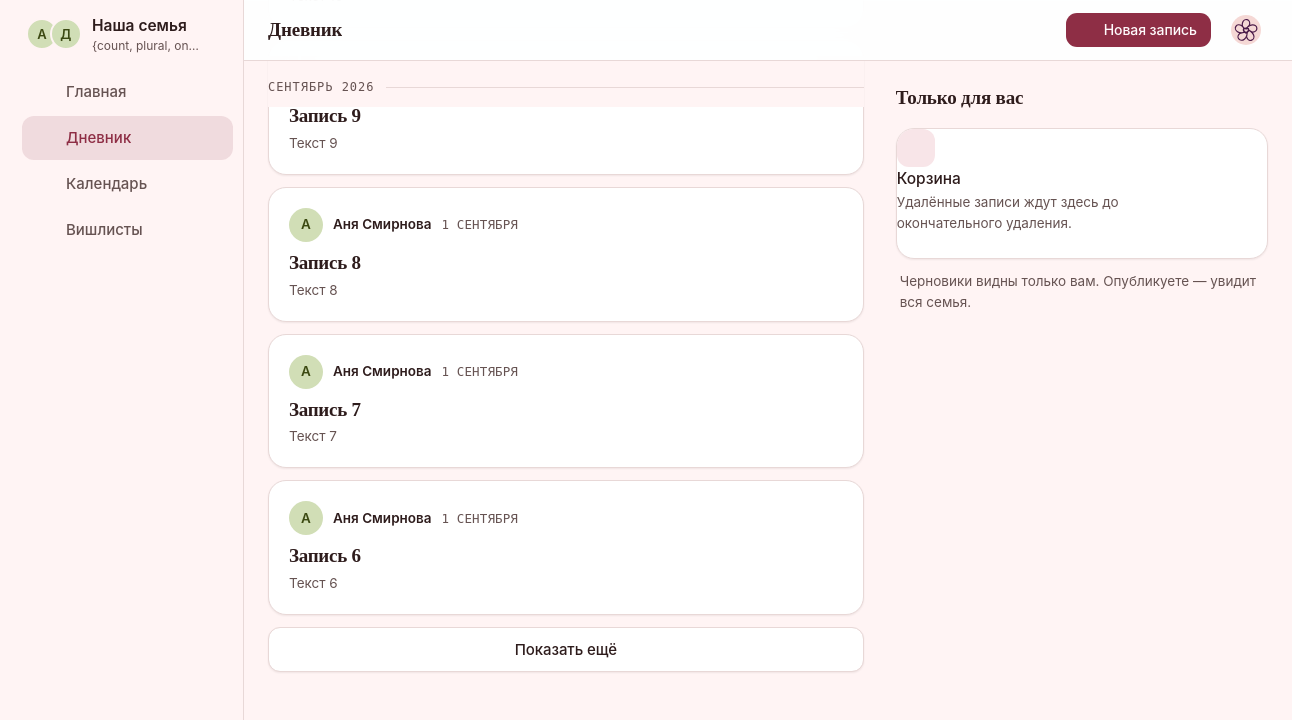
Test: JournalScreen (the shared feed) › pages the feed twenty entries at a time, the month label printed once
(page scrolled)
Expected: the text "Запись 5" is not shown
Expected: the text "Сентябрь 2026" is shown once, 268,56 -> 864,107
Click the button "Показать ещё" at x=566, y=650, box 268,627 -> 864,672
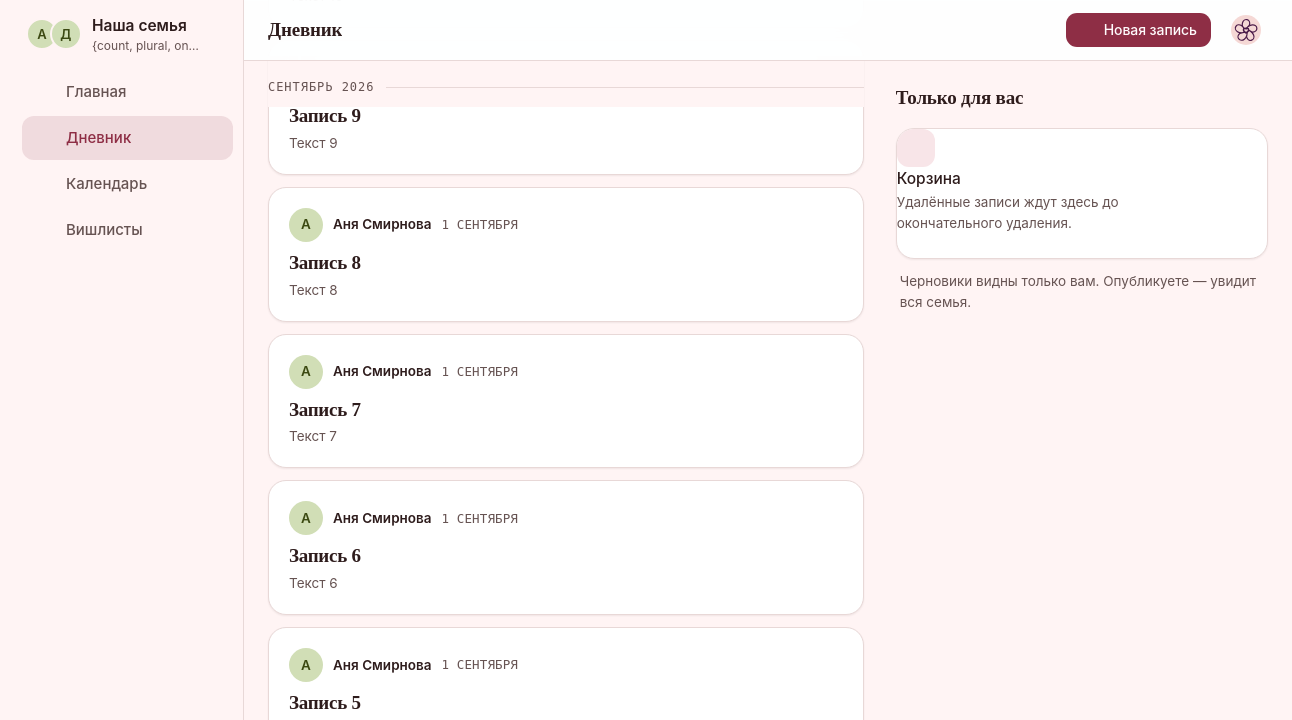
Expected: the text "Сентябрь 2026" is shown once, 268,56 -> 864,107
Result: the heading "Запись 5" is shown at 289,692 -> 361,713
Result: the button "Показать ещё" is gone
